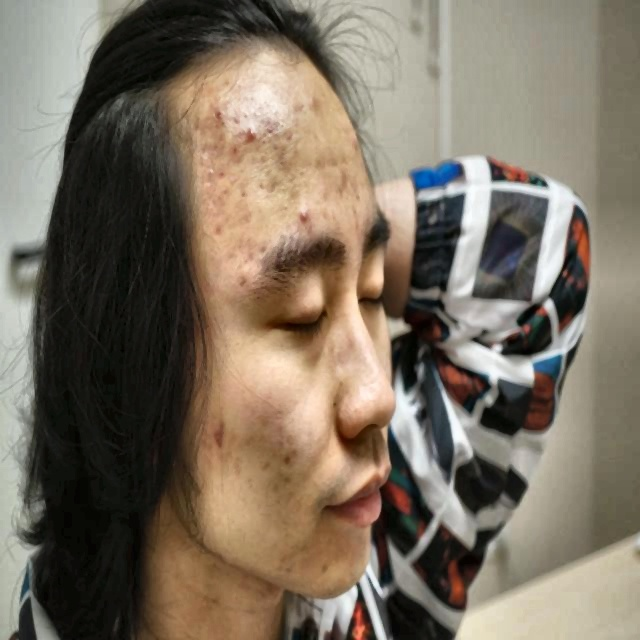pustule: (208, 416, 235, 446), (294, 206, 314, 229), (214, 105, 228, 133), (234, 266, 248, 291), (209, 219, 226, 236), (215, 165, 226, 190), (227, 141, 240, 161), (246, 128, 254, 144)
